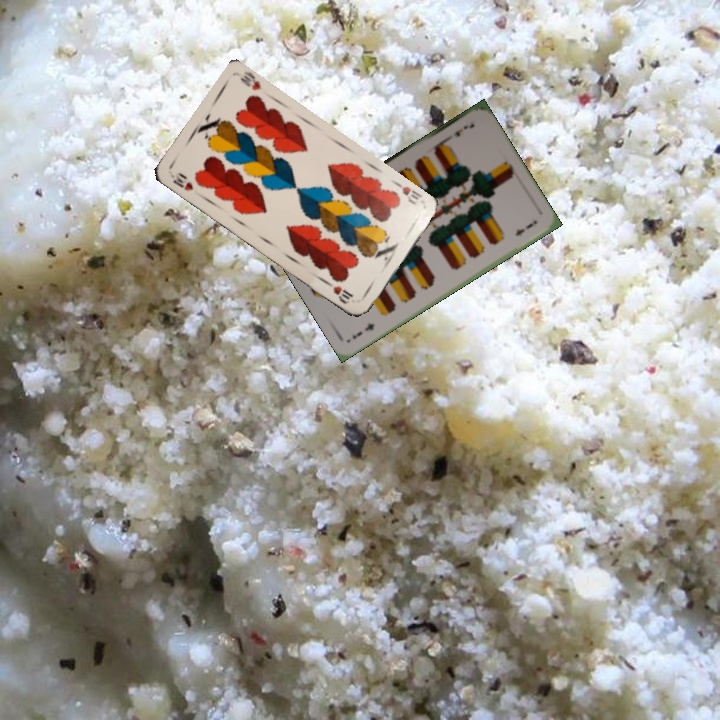E7: (442, 120, 477, 143), (348, 319, 377, 342)
H10: (391, 178, 425, 207), (166, 168, 196, 193)
